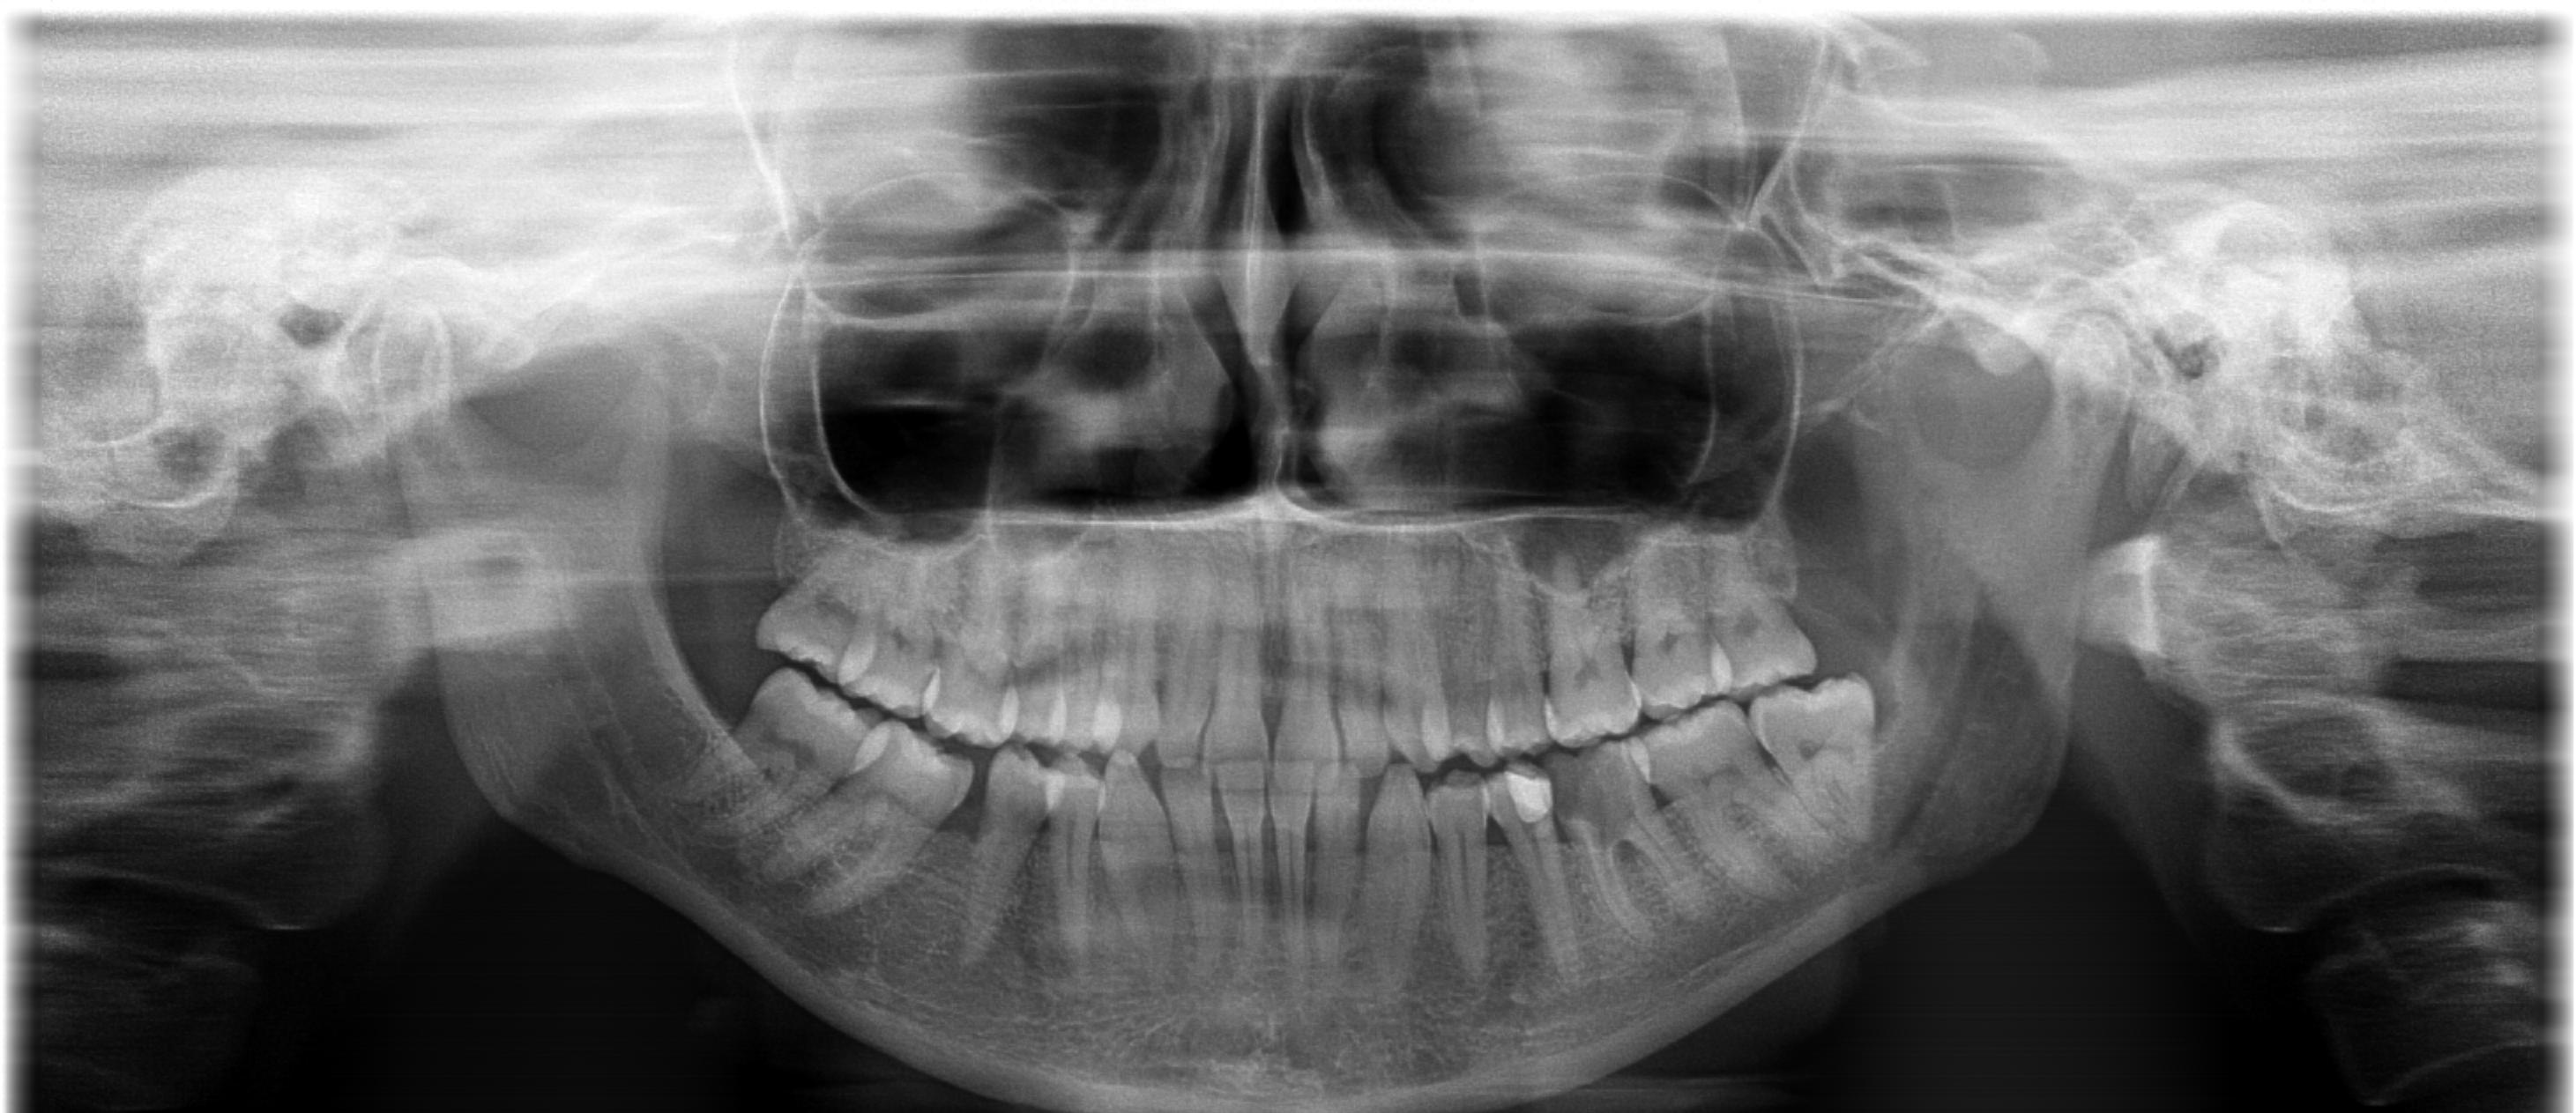cordal: (1674, 522, 1843, 703), (1743, 663, 1912, 842), (728, 509, 897, 688)
diastema: (912, 727, 1015, 906)
diente_rotado: (1081, 726, 1193, 975)
